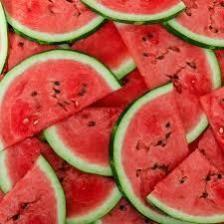red: (137, 112, 221, 191), (1, 96, 113, 138), (118, 24, 164, 72)
